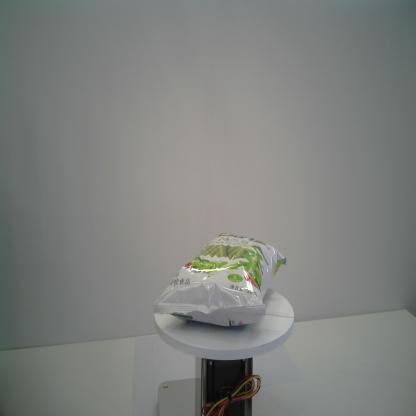Puffed Food: (153, 232, 287, 329)
